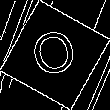O_S: (27, 25, 83, 85)
